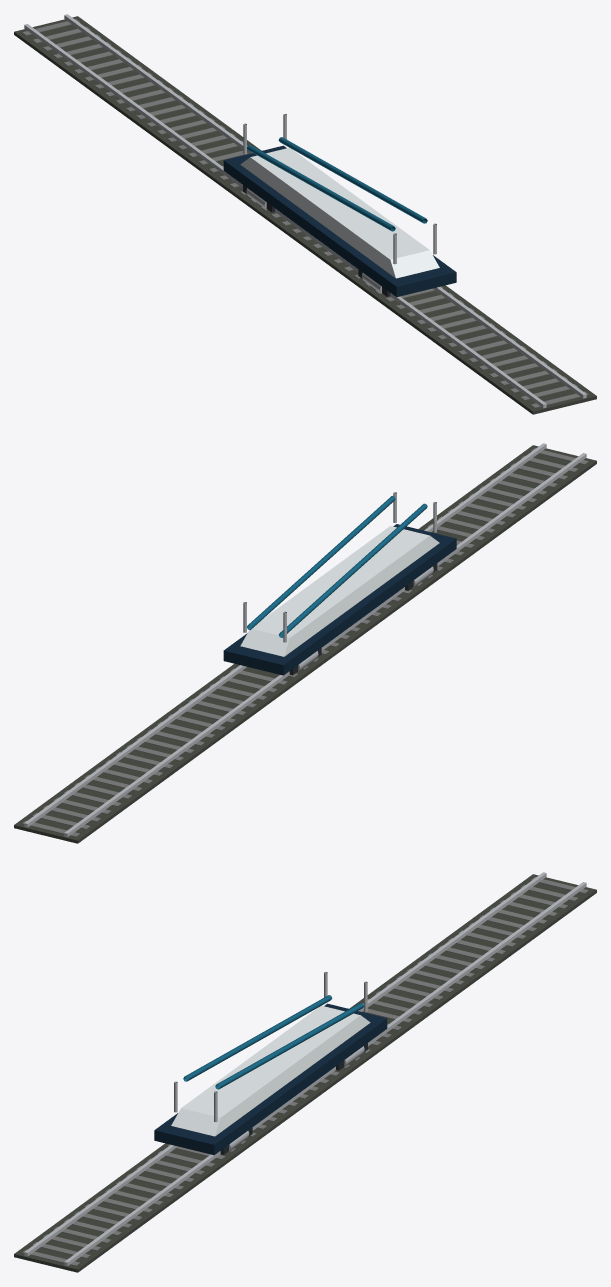
Rendered from world_site_steppe_rail_erector.glb.
3 renders of one model, top to bottom at view 1: azimuth 30°, elevation 25°; view 2: azimuth 150°, elevation 25°; view 3: azimuth 330°, elevation 25°, orthographic.
Visible parts, largest first — view 1: world_site_steppe_rail_erector_mesh; view 2: world_site_steppe_rail_erector_mesh; view 3: world_site_steppe_rail_erector_mesh.
Part boxes in pixels (left/top/right/bottom): world_site_steppe_rail_erector_mesh: left=14, top=14, right=596, bottom=414; world_site_steppe_rail_erector_mesh: left=14, top=443, right=596, bottom=843; world_site_steppe_rail_erector_mesh: left=14, top=872, right=596, bottom=1272.
Bounding box in the file's own units: 6.4 × 6.72 × 90.
